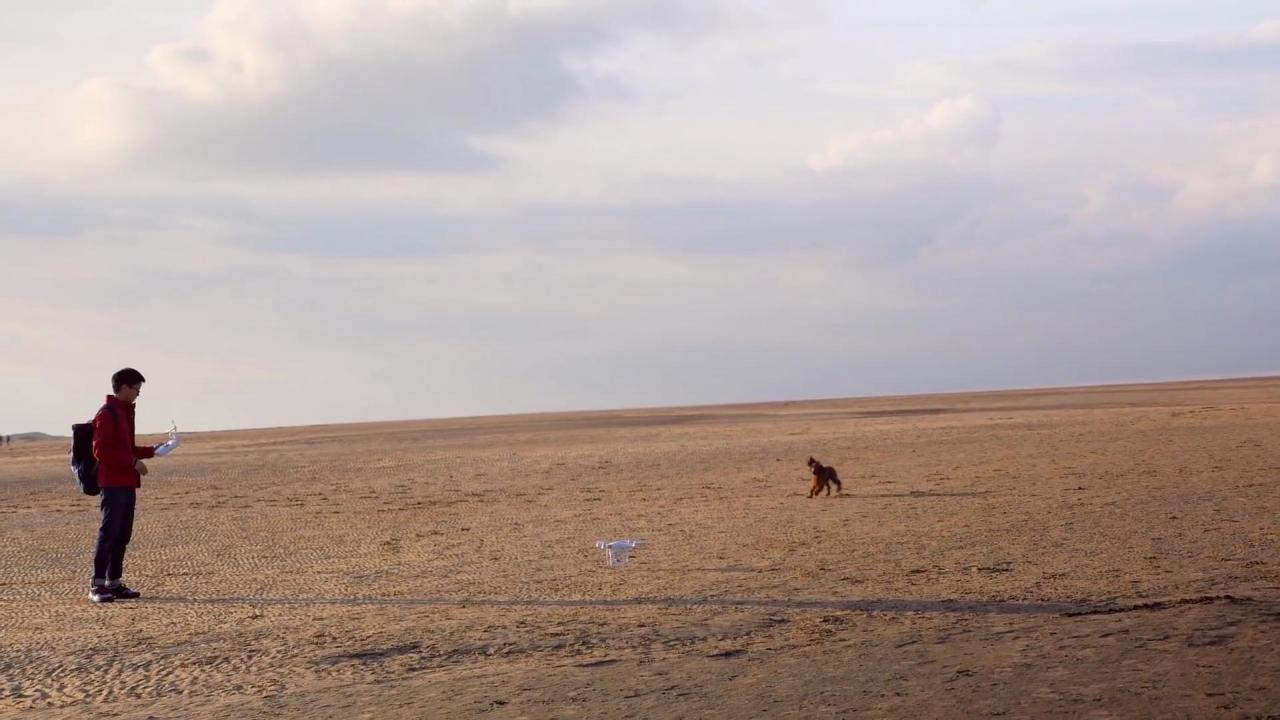Drone: (588, 530, 650, 578)
